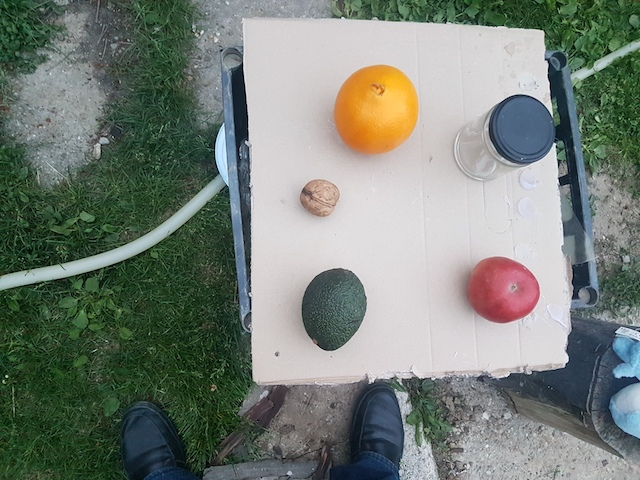apple: (469, 253, 541, 326)
avocado: (300, 267, 369, 352)
nut: (299, 176, 338, 216)
orange: (333, 63, 419, 155)
recipient: (491, 90, 557, 169)
